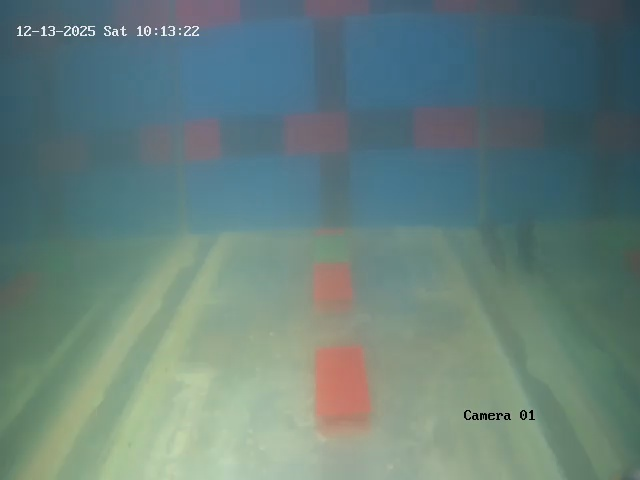fish: (470, 206, 509, 305)
